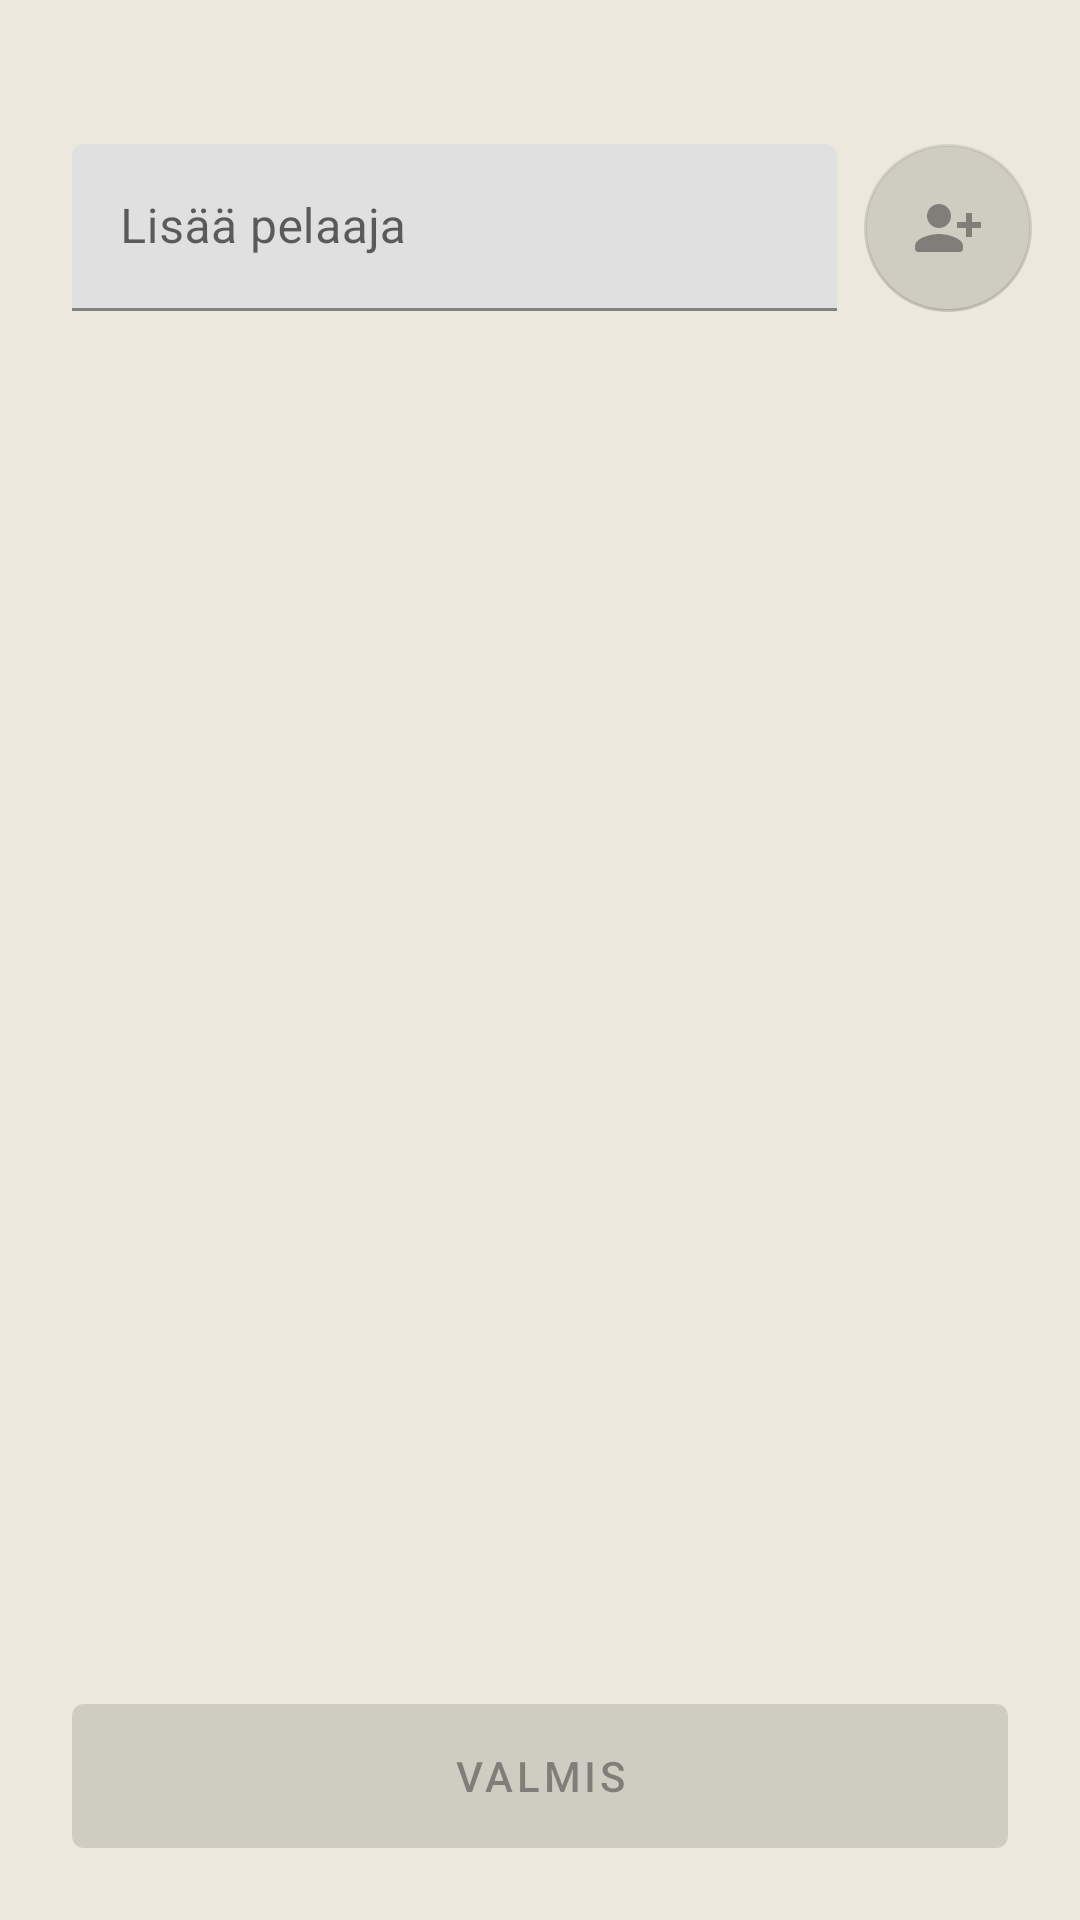

Screen size 1080px×1920px. Icon name, then its box in pixels as (x1, y1, x2, y2):
person add: (864, 146, 1032, 312)
